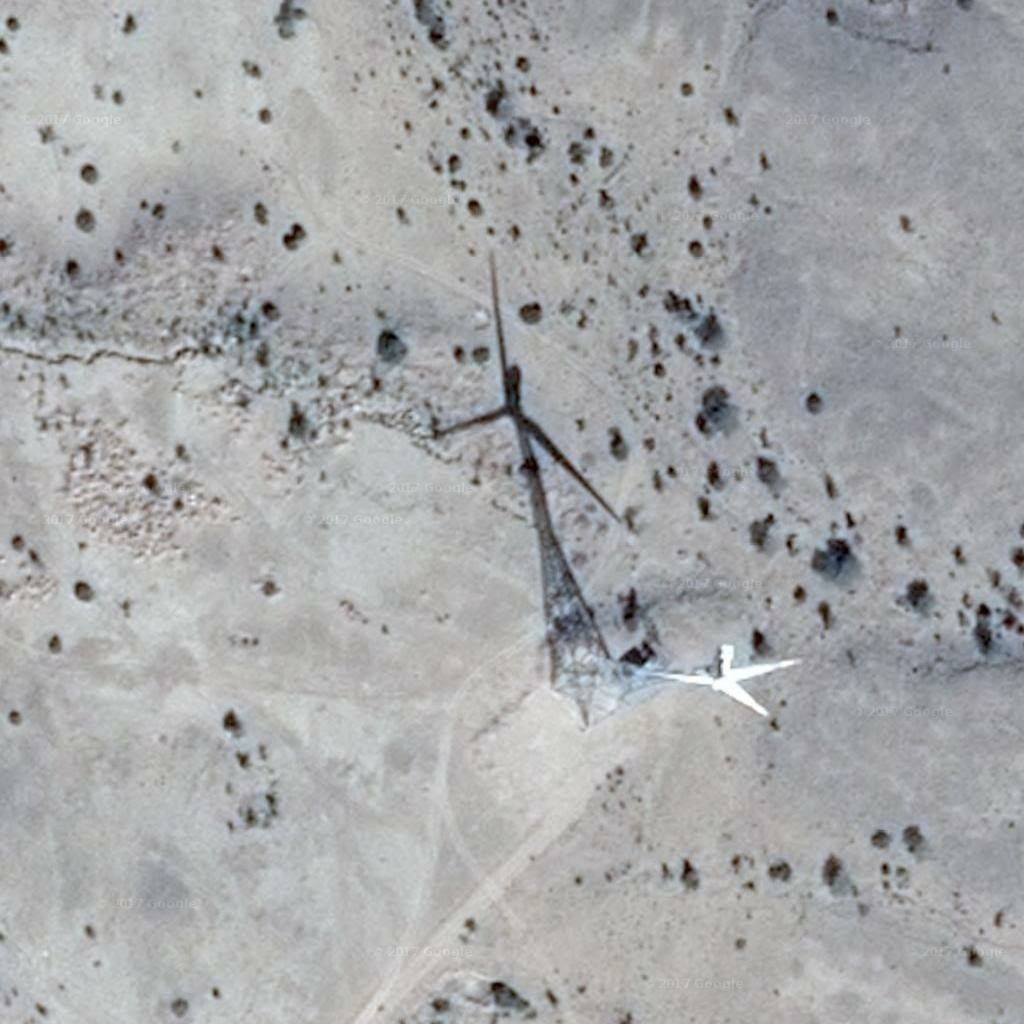Windmill: (428, 251, 623, 668)
